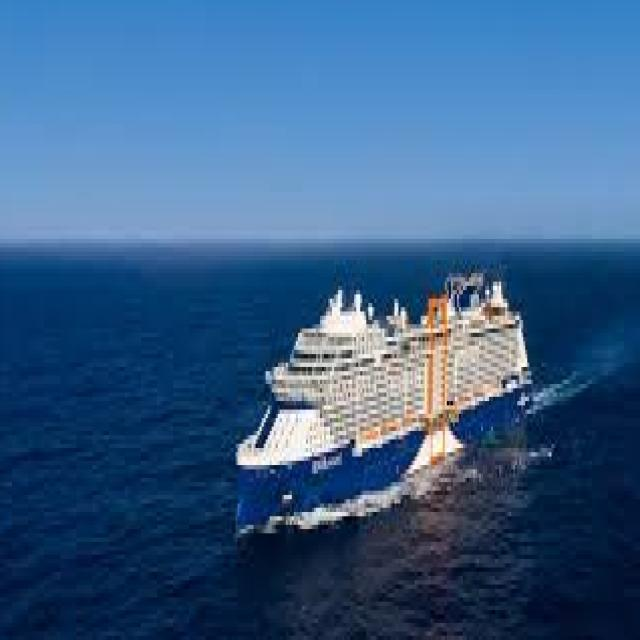passenger ship: (235, 254, 538, 543)
